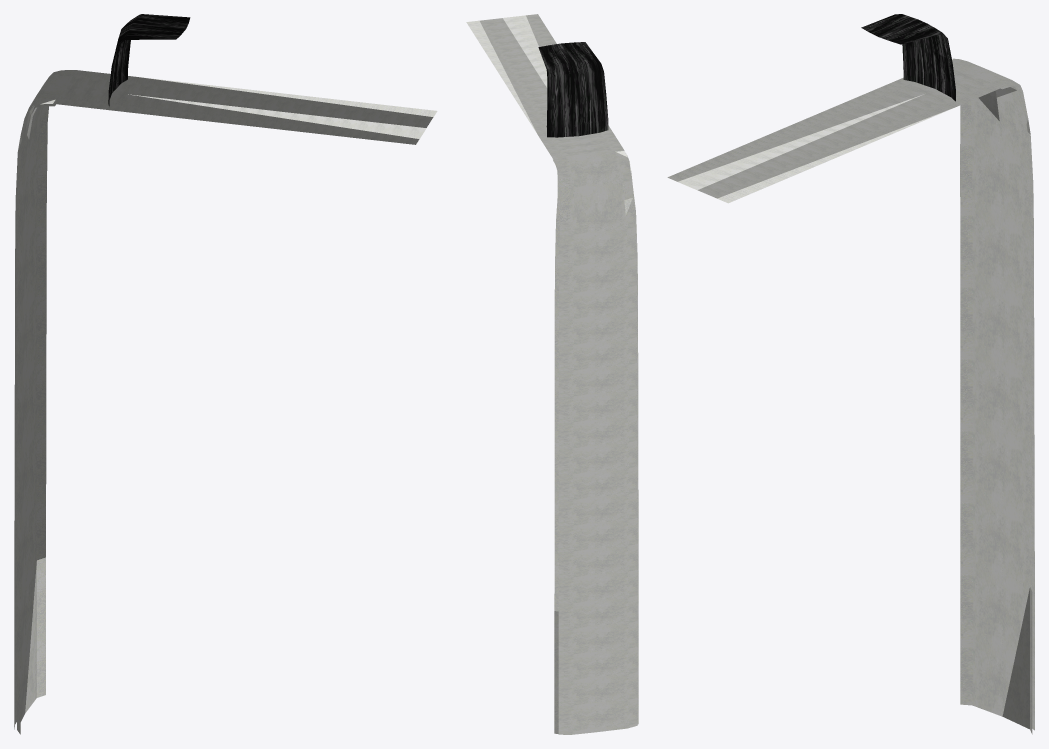
The model's file is stg110_MotWater_14.obj.
The picture shows the model from 3 angles, left to right: view 1: azimuth 30°, elevation 25°; view 2: azimuth 150°, elevation 25°; view 3: azimuth 270°, elevation 25°; orthographic projection. The views are drawn at different scales.
Parts seen in each view (by area): view 1: polygon1, polygon0, polygon2; view 2: polygon0, polygon2, polygon1; view 3: polygon1, polygon0, polygon2.
Boxes of the visible parts, x1,y1,x2,y2 form: polygon1: (17,104,55,734); polygon0: (14,70,437,729); polygon2: (108,14,190,106); polygon0: (466,14,637,734); polygon2: (538,42,608,137); polygon1: (553,155,638,734); polygon1: (960,84,1032,734); polygon0: (667,58,1034,730); polygon2: (861,14,955,101).
Bounding box in the file's own units: 766 × 1677 × 764.
